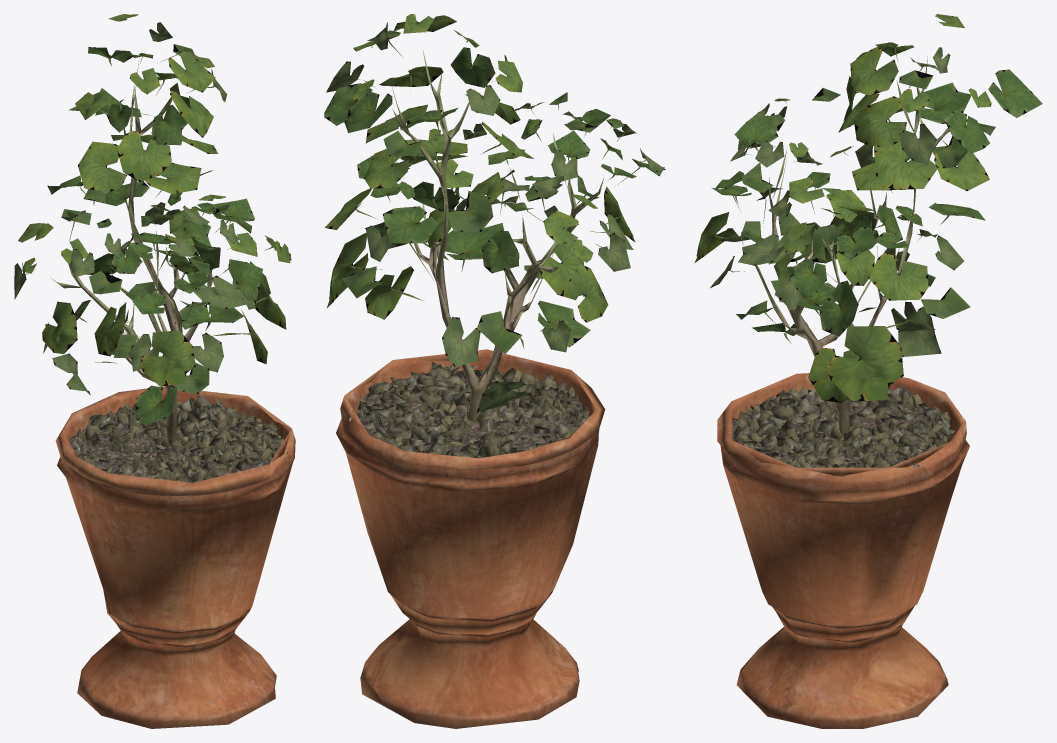
File: potted-plant.glb
3 views of the same model, side by side, from view 1: azimuth 30°, elevation 25°; view 2: azimuth 150°, elevation 25°; view 3: azimuth 270°, elevation 25° (orthographic). The views are drawn at different scales.
Parts seen in each view (by area): view 1: potted_plant_01_pot, potted_plant_01_leaves, potted_plant_01_pebbles, potted_plant_01_stem; view 2: potted_plant_01_pot, potted_plant_01_leaves, potted_plant_01_pebbles, potted_plant_01_stem; view 3: potted_plant_01_pot, potted_plant_01_leaves, potted_plant_01_pebbles, potted_plant_01_stem.
Boxes of the visible parts, x1,y1,x2,y2 form: potted_plant_01_pot: [55, 386, 295, 728]; potted_plant_01_leaves: [14, 14, 291, 425]; potted_plant_01_pebbles: [69, 394, 292, 482]; potted_plant_01_stem: [51, 58, 238, 446]; potted_plant_01_pot: [336, 349, 605, 728]; potted_plant_01_leaves: [324, 14, 665, 412]; potted_plant_01_pebbles: [348, 362, 589, 476]; potted_plant_01_stem: [392, 49, 603, 422]; potted_plant_01_pot: [717, 373, 969, 728]; potted_plant_01_leaves: [694, 14, 1042, 402]; potted_plant_01_pebbles: [731, 386, 961, 485]; potted_plant_01_stem: [755, 56, 961, 437].
Bounding box in the file's own units: 0.5866 × 1.33 × 0.6336.
2 materials, 2 textured.
